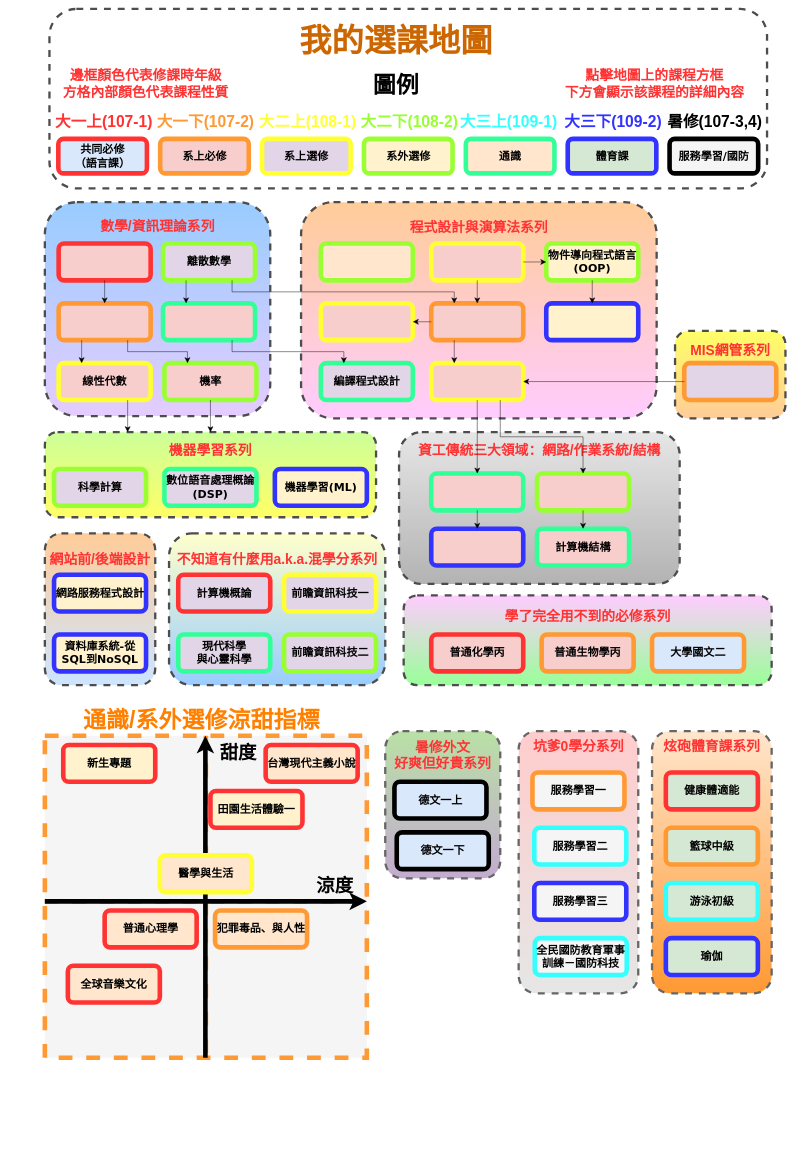
Image size: 794x1153. Some labels were removed from this diagram. Each missing label, with the centre of its shape:
作業系統(OS): the point at 583,491
基礎物件導向程式設計(OOP): the point at 592,321
微積分甲上: the point at 104,261
微積分甲下: the point at 104,321
演算法設計與分析(ADA): the point at 366,321
用 Python 做商管程式設計 （線上課程）: the point at 366,261
系統程式設計(SP): the point at 477,381
網路管理與系統管理/實驗(NASA): the point at 730,381
自動機與形式語言 (Automata): the point at 209,321
計算機程式設計: the point at 477,261
計算機網路: the point at 477,491
計算機網路實驗: the point at 477,547
資料結構與演算法 (DSA): the point at 477,321
